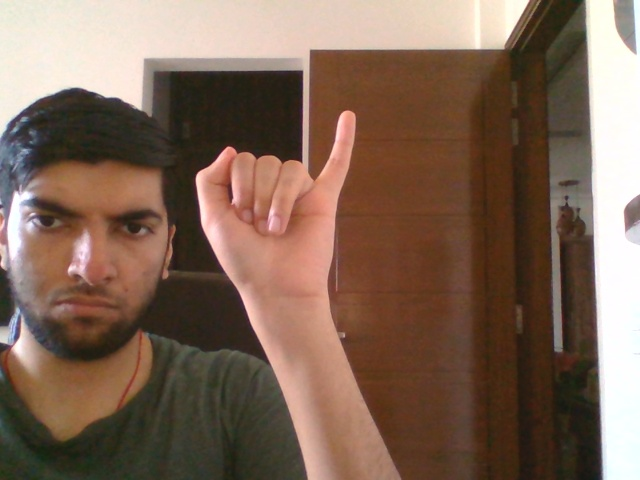LetterI: (195, 109, 356, 299)
